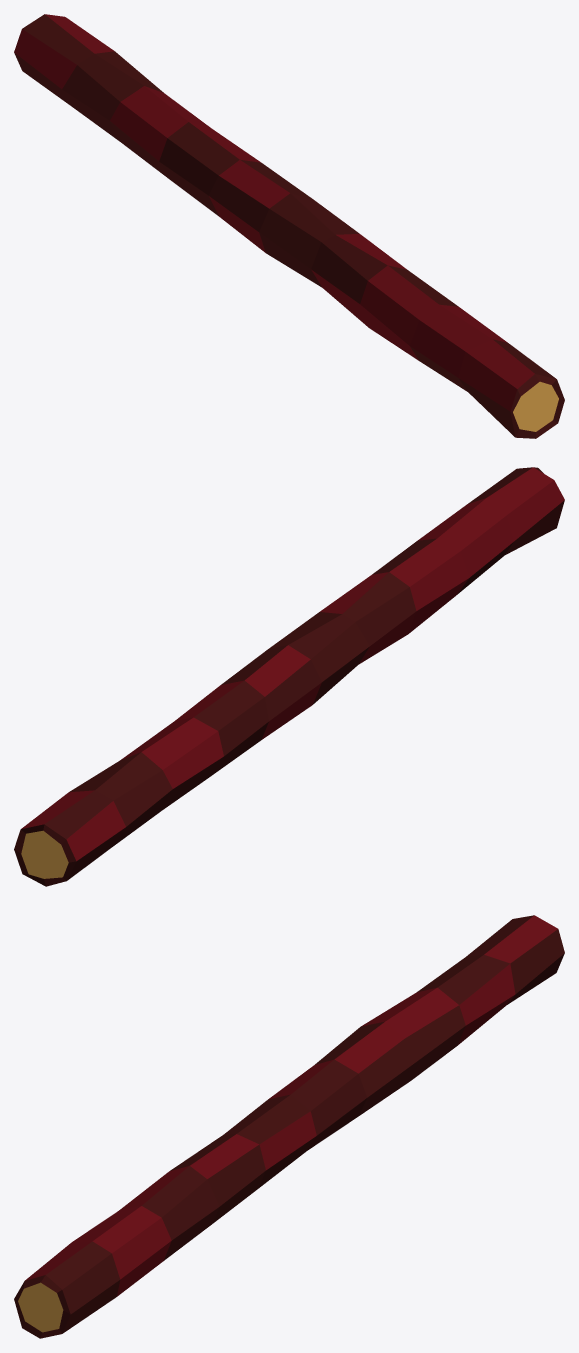
Rendered from WoodLog.fbx.
The picture shows the model from 3 angles, top to bottom: view 1: azimuth 30°, elevation 25°; view 2: azimuth 150°, elevation 25°; view 3: azimuth 330°, elevation 25°; orthographic projection.
Parts seen in each view (by area): view 1: WoodLog; view 2: WoodLog; view 3: WoodLog.
Part boxes in pixels (<box>): WoodLog: <box>14,14,564,438</box>; WoodLog: <box>14,467,564,886</box>; WoodLog: <box>14,915,564,1338</box>.
Size of the model in its own units: 0.7776 by 0.7647 by 10.35.
